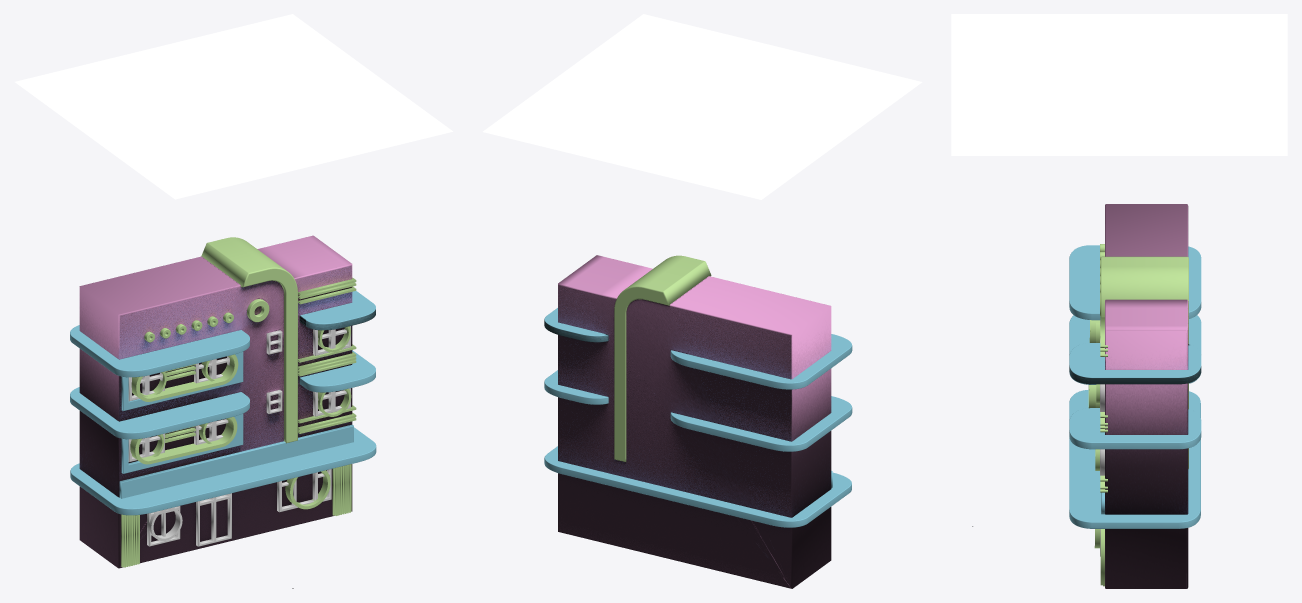
The model's file is BuildingBake1.glb.
3 renders of one model, left to right at view 1: azimuth 30°, elevation 25°; view 2: azimuth 150°, elevation 25°; view 3: azimuth 270°, elevation 25°, orthographic. The views are drawn at different scales.
Parts seen in each view (by area): view 1: Plane, Building, Curve.001, Curve.002, Curve.020, Curve.064, Curve.062, Curve.066, Curve.065, Curve.076, Curve.077, Curve.019 (+4 smaller); view 2: Building, Plane, Curve.002, Curve.001, Curve.064, Curve.062, Curve.066, Curve.065; view 3: Plane, Building, Curve.001, Curve.002, Curve.062, Curve.066, Curve.065, Curve.064.
Boxes of the visible parts, x1,y1,x2,y2 form: Plane: (15, 14, 452, 199); Building: (79, 235, 352, 568); Curve.001: (70, 427, 376, 515); Curve.002: (201, 237, 297, 443); Curve.020: (119, 424, 353, 498); Curve.064: (70, 387, 249, 439); Curve.062: (70, 325, 249, 377); Curve.066: (299, 291, 375, 330); Curve.065: (299, 350, 375, 392); Curve.076: (130, 416, 237, 464); Curve.077: (131, 354, 238, 401); Curve.019: (121, 414, 243, 473); Building: (558, 255, 831, 588); Plane: (483, 14, 922, 199); Curve.002: (614, 255, 711, 461); Curve.001: (544, 446, 851, 527); Curve.064: (670, 396, 852, 451); Curve.062: (670, 334, 852, 389); Curve.066: (544, 308, 608, 342); Curve.065: (544, 370, 608, 404); Plane: (951, 14, 1287, 155); Building: (1105, 204, 1188, 588); Curve.001: (1069, 389, 1200, 528); Curve.002: (1100, 256, 1188, 468); Curve.062: (1069, 245, 1201, 320); Curve.066: (1069, 343, 1201, 384); Curve.065: (1069, 408, 1201, 449); Curve.064: (1069, 315, 1201, 384).
Bounding box in the file's own units: 3.32 × 4.88 × 3.32.
Materials: 8 (2 with a texture image).
